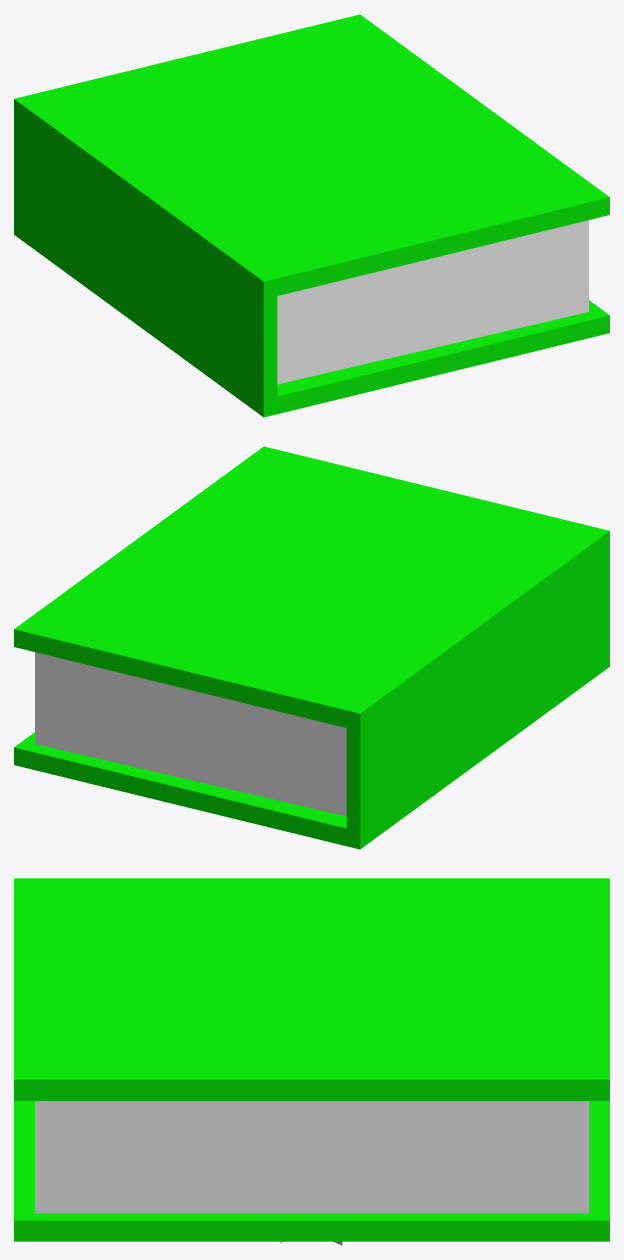
The model's file is wrs_fcsc_ebook.dae.
3 views of the same model, one above another, from view 1: azimuth 30°, elevation 25°; view 2: azimuth 150°, elevation 25°; view 3: azimuth 270°, elevation 25° (orthographic). The views are drawn at different scales.
Parts seen in each view (by area): view 1: Cube; view 2: Cube; view 3: Cube.
Part boxes in pixels (left/top/right/bottom): Cube: left=14, top=14, right=609, bottom=417; Cube: left=14, top=446, right=609, bottom=849; Cube: left=14, top=878, right=609, bottom=1245.
Bounding box in the file's own units: 0.16 × 0.2 × 0.07.
